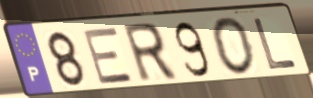8: (46, 29, 88, 90)
9: (172, 20, 212, 79)
E: (80, 25, 137, 87)
L: (251, 17, 301, 72)
O: (210, 16, 257, 77)
R: (120, 21, 181, 86)
